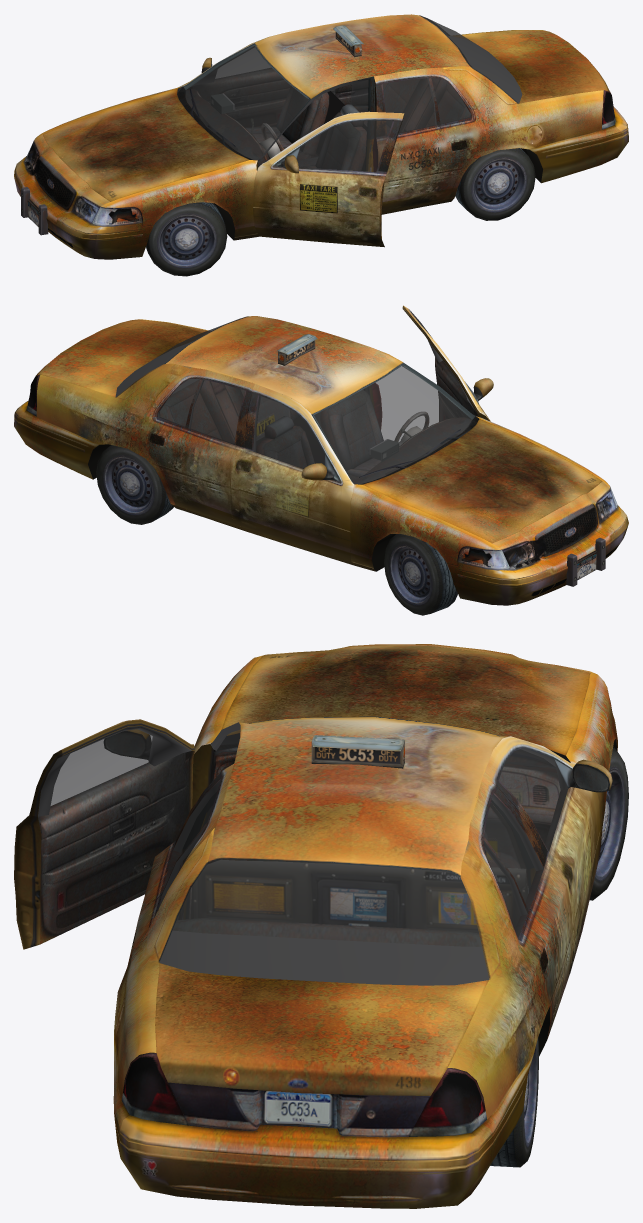
The model's file is car01.FBX.
The picture shows the model from 3 angles, top to bottom: view 1: azimuth 30°, elevation 25°; view 2: azimuth 150°, elevation 25°; view 3: azimuth 270°, elevation 25°; orthographic projection. The views are drawn at different scales.
Visible parts, largest first — view 1: Crown04, DoorF21, MotorH10, DoorB21, LagH10, Wheel41, DoorF22, Wheel42, SeatB10, Seat22, Seat21, Cabin04 (+4 smaller); view 2: Crown04, MotorH10, DoorF22, DoorB22, LagH10, Wheel43, Wheel44, SeatB10, Seat21, DoorF21, Seat22, Cabin04 (+3 smaller); view 3: Crown04, LagH10, DoorF21, MotorH10, Cabin04, DoorB22, DoorF22, SeatB10, DoorB21, Wheel43, TAXI04, Wheel44.
Boxes of the visible parts, <box> form: Crown04: <box>14,14,628,259</box>; DoorF21: <box>253,111,404,247</box>; MotorH10: <box>43,88,249,201</box>; DoorB21: <box>373,67,486,211</box>; LagH10: <box>455,30,610,103</box>; Wheel41: <box>146,202,227,276</box>; DoorF22: <box>178,37,290,127</box>; Wheel42: <box>455,148,535,220</box>; SeatB10: <box>352,78,469,134</box>; Seat22: <box>246,86,329,159</box>; Seat21: <box>300,104,366,170</box>; Cabin04: <box>316,80,368,171</box>; Crown04: <box>14,316,628,605</box>; MotorH10: <box>362,419,602,543</box>; DoorF22: <box>238,384,353,561</box>; DoorB22: <box>140,367,254,526</box>; LagH10: <box>36,319,207,397</box>; Wheel43: <box>384,534,457,615</box>; Wheel44: <box>96,445,173,524</box>; SeatB10: <box>160,379,299,443</box>; Seat21: <box>320,390,383,479</box>; DoorF21: <box>402,305,493,421</box>; Seat22: <box>256,416,314,467</box>; Cabin04: <box>256,397,324,464</box>; Crown04: <box>113,644,617,1208</box>; LagH10: <box>155,963,488,1137</box>; DoorF21: <box>14,719,194,949</box>; MotorH10: <box>221,645,590,755</box>; Cabin04: <box>191,803,527,933</box>; DoorB22: <box>468,776,575,1036</box>; DoorF22: <box>483,736,612,970</box>; SeatB10: <box>173,918,481,946</box>; DoorB21: <box>128,763,234,963</box>; Wheel43: <box>589,747,628,900</box>; TAXI04: <box>311,735,404,768</box>; Wheel44: <box>490,1037,538,1167</box>.
Bounding box in the file's own units: 32.85 × 9.6 × 16.97.
